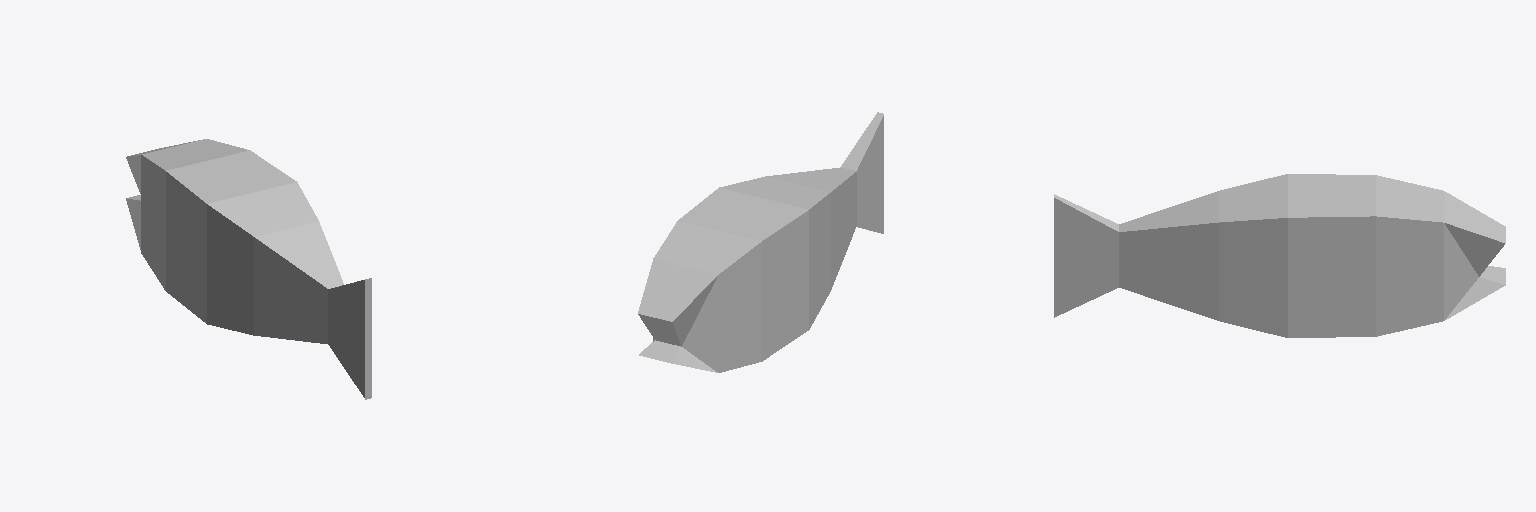
The model's file is fish2.obj.
3 renders of one model, left to right at view 1: azimuth 30°, elevation 25°; view 2: azimuth 150°, elevation 25°; view 3: azimuth 270°, elevation 25°, orthographic.
Visible parts, largest first — view 1: Cube; view 2: Cube; view 3: Cube.
Part boxes in pixels (bbox=[...]): Cube: bbox=[126, 139, 371, 399]; Cube: bbox=[638, 112, 883, 372]; Cube: bbox=[1054, 174, 1505, 337].
Size of the model in its own units: 2.75 by 3.5 by 11.9.